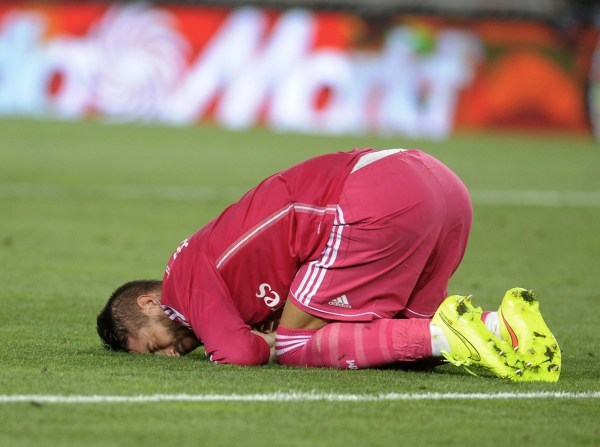down: (89, 126, 566, 379)
